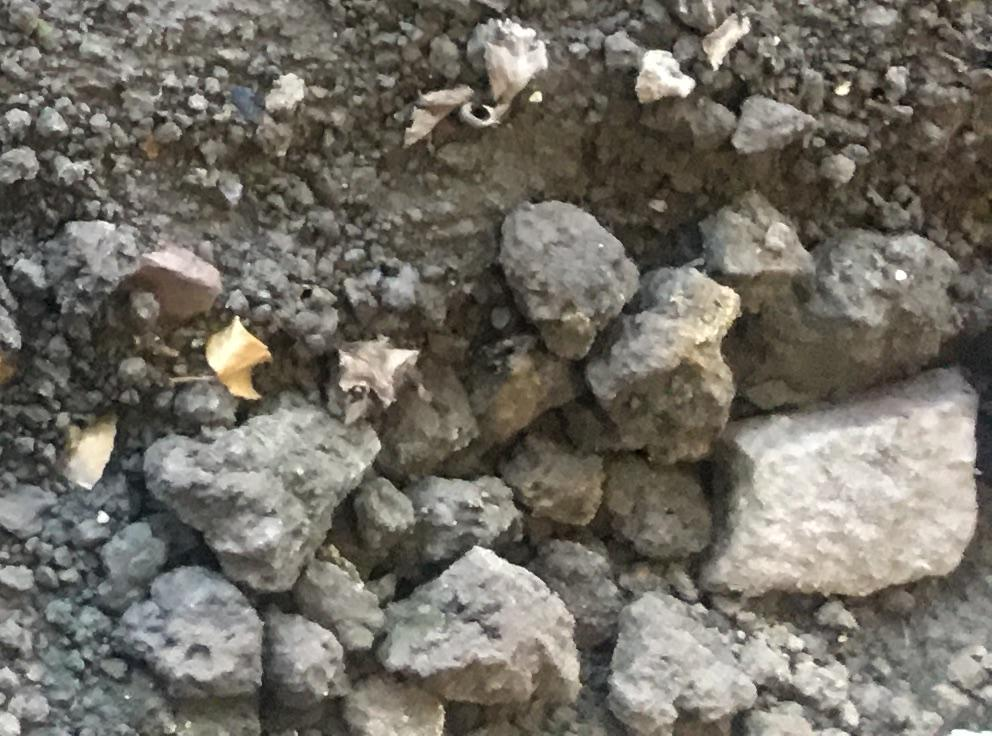block: (715, 368, 985, 600), (729, 215, 959, 400), (143, 406, 370, 588), (383, 540, 583, 708), (602, 260, 725, 469), (603, 592, 767, 728), (500, 196, 631, 356), (121, 566, 260, 695)
